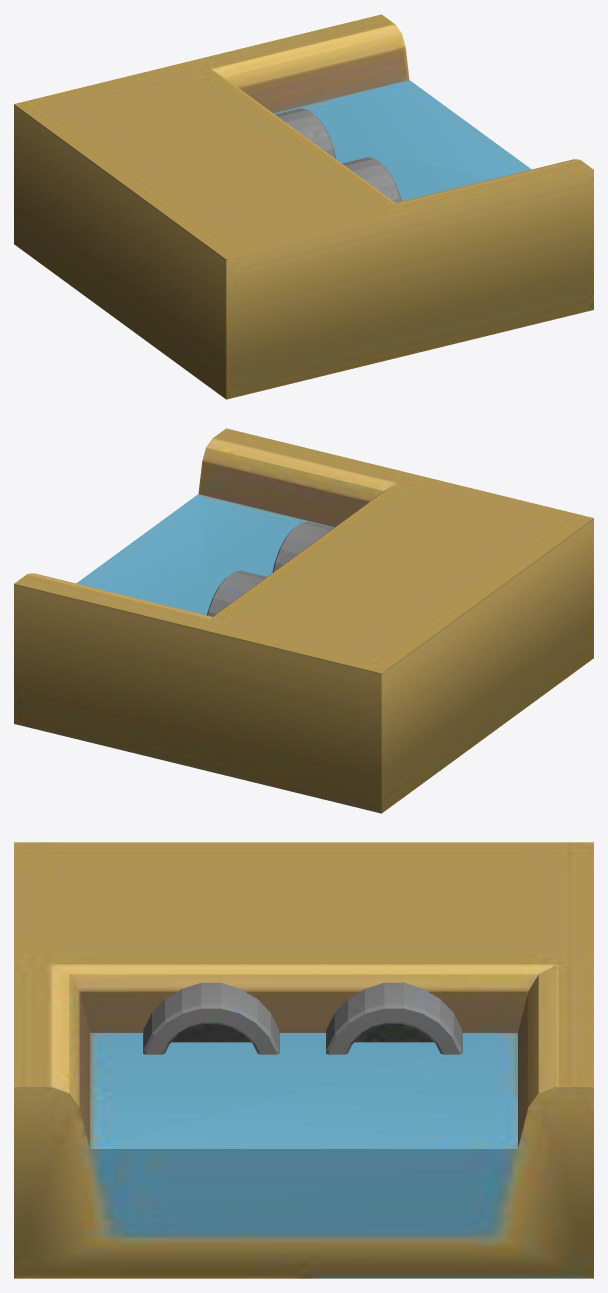
Rendered from creek_bridge.glb.
The picture shows the model from 3 angles, top to bottom: view 1: azimuth 30°, elevation 25°; view 2: azimuth 150°, elevation 25°; view 3: azimuth 270°, elevation 25°; orthographic projection. The views are drawn at different scales.
Visible parts, largest first — view 1: creek_bridge; view 2: creek_bridge; view 3: creek_bridge.
Boxes of the visible parts, x1,y1,x2,y2 form: creek_bridge: (14,14,593,399); creek_bridge: (14,428,593,813); creek_bridge: (14,842,593,1278).
Size of the model in its own units: 2 by 0.7285 by 2.
Materials: 1 (1 with a texture image).
